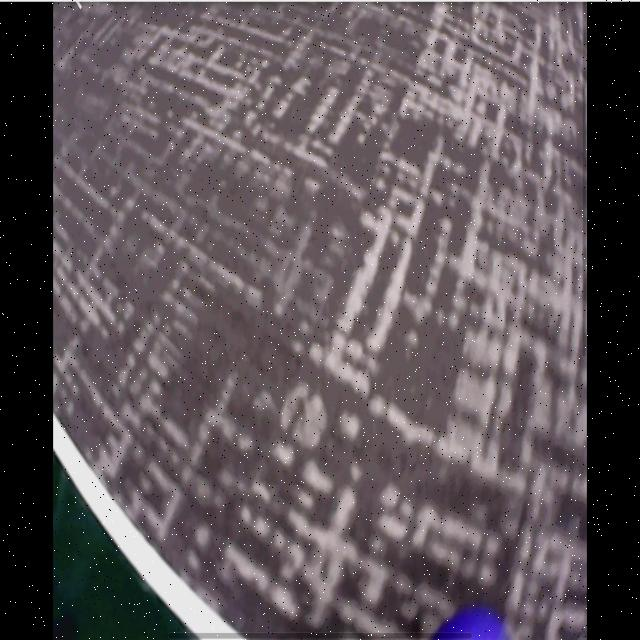ball: (432, 609, 515, 640)
